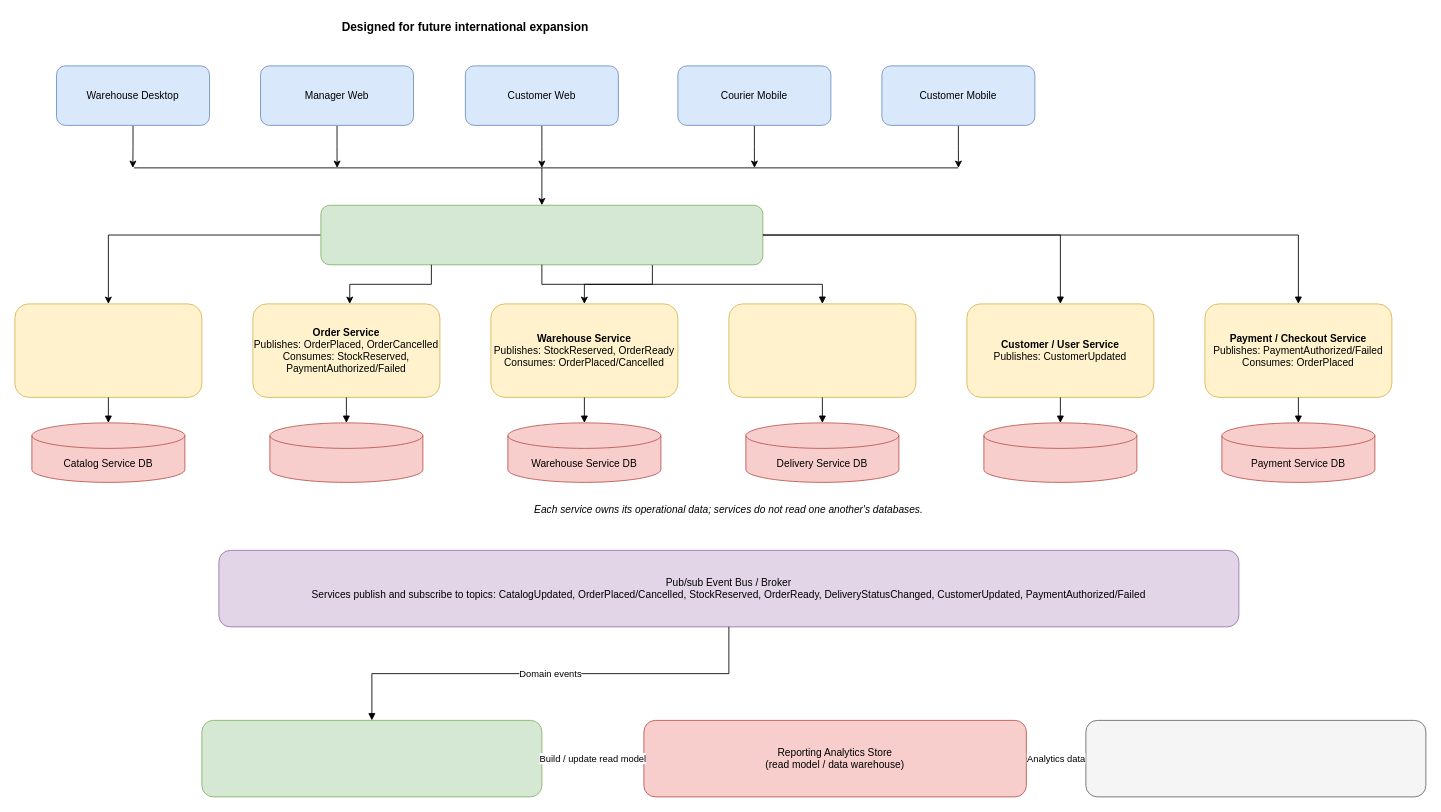
Image size: 1441x812. Some labels were removed from this diagram. Here are the shapes that lost their labels. From the top down, the centre of each, then its label:
At (x=541, y=234): "API Gateway / BFF".
At (x=108, y=350): "Catalog Service Publishes: CatalogUpdated".
At (x=822, y=350): "Delivery Service Publishes: DeliveryStatusChanged Consumes: OrderReady".
At (x=346, y=452): "Order Service DB".
At (x=1060, y=452): "Customer Service DB".
At (x=371, y=758): "Reporting Ingestion Service Consumes domain events from the bus".
At (x=1255, y=758): "Third-party Reporting / BI Reads the analytics store; no operational DB access".
